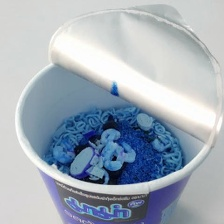paper_cup: (8, 0, 224, 224)
